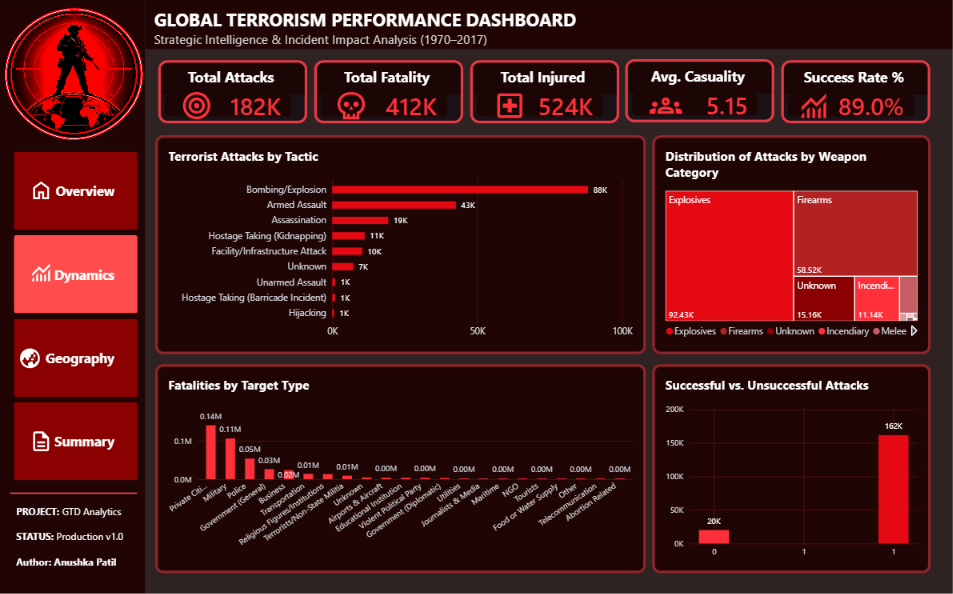

The page's visual inventory and layout, read from the dashboard file:
{"tool":"powerbi","page":{"name":"Dynamics","canvas":[1440,900],"ordinal":1},"visuals":[{"type":"clusteredBarChart","title":"Terrorist Attacks by Tactic","fields":{"Category":["globalterrorismdb_0718dist.attacktype1_txt"],"Y":["CountNonNull(globalterrorismdb_0718dist.eventid)"]},"box":[235,205,740,330],"z":0},{"type":"treemap","title":"Distribution of Attacks by Weapon Category","fields":{"Group":["globalterrorismdb_0718dist.weaptype1_txt"],"Values":["CountNonNull(globalterrorismdb_0718dist.eventid)"]},"box":[985,205,420,330],"z":1000},{"type":"columnChart","title":"Fatalities by Target Type","fields":{"Category":["globalterrorismdb_0718dist.targtype1_txt"],"Y":["_Measures.Total Fatalities"]},"box":[235,550,740,315],"z":2000},{"type":"clusteredColumnChart","title":"Successful vs. Unsuccessful Attacks","fields":{"Category":["globalterrorismdb_0718dist.success"],"Y":["_Measures.Total Attacks"]},"box":[985,550,420,315],"z":3000},{"type":"shape","box":[0,0,220,900],"z":4000},{"type":"textbox","box":[26.1,761.7,178.3,103.3],"z":6000},{"type":"shape","box":[219.4,0,1220,75.4],"z":7000},{"type":"textbox","box":[234.5,11.7,1175,63.3],"z":8000},{"type":"cardVisual","title":"Total Attacks","fields":{"Data":["_Measures.Total Attacks"]},"box":[239.8,92.5,225,95],"z":9000,"group":"g1"},{"type":"pageNavigator","box":[19.6,227.7,191.5,500.7],"z":9000},{"type":"cardVisual","title":"Total Fatality","fields":{"Data":["_Measures.Total Fatalities"]},"box":[474.8,92.5,225,95],"z":10000,"group":"g1"},{"type":"image","box":[45.2,265.4,36,45],"z":10000},{"type":"cardVisual","title":"Total Injured","fields":{"Data":["_Measures.Total Injured"]},"box":[709.8,92.5,225,95],"z":11000,"group":"g1"},{"type":"image","box":[45.2,389.1,36,45],"z":11000},{"type":"cardVisual","title":"Success Rate %","fields":{"Data":["_Measures.Success Rate %"]},"box":[1179.8,92.5,225,95],"z":12000,"group":"g1"},{"type":"image","box":[28,519,36,45],"z":12000},{"type":"cardVisual","title":"Avg. Casuality","fields":{"Data":["_Measures.Avg Casualties per Attack"]},"box":[944.8,90.5,225,95],"z":13000,"group":"g1"},{"type":"image","box":[45.7,643.6,36,45],"z":13000},{"type":"group","id":"g1","title":"Group 1","box":[239.8,90.5,1164.2,98],"z":14000},{"type":"image","box":[6,6,214,221.7],"z":14001},{"type":"shape","box":[16.6,728.4,191.5,33.2],"z":14002},{"type":"image","box":[259.7,135.2,76.9,49.8],"z":19000,"group":"g1"},{"type":"image","box":[491.9,135.2,78.4,49.8],"z":20000,"group":"g1"},{"type":"image","box":[736.2,135.2,67.9,49.8],"z":21000,"group":"g1"},{"type":"image","box":[965.4,135.2,79.9,49.8],"z":22000,"group":"g1"},{"type":"image","box":[1199.2,135.2,58.8,49.8],"z":23000,"group":"g1"}]}

Visuals, with their boxes in screenshot pixels (x1, y1, x2, y2), scaled from the page's 1440x900 canvas onto the 953x594 screenshot:
"Terrorist Attacks by Tactic" clusteredBarChart: 156,135,645,353
"Distribution of Attacks by Weapon Category" treemap: 652,135,930,353
"Fatalities by Target Type" columnChart: 156,363,645,571
"Successful vs. Unsuccessful Attacks" clusteredColumnChart: 652,363,930,571
shape: 0,0,146,593
textbox: 17,503,135,571
shape: 145,0,952,50
textbox: 155,8,933,50
"Total Attacks" cardVisual: 159,61,308,124
pageNavigator: 13,150,140,481
"Total Fatality" cardVisual: 314,61,463,124
image: 30,175,54,205
"Total Injured" cardVisual: 470,61,619,124
image: 30,257,54,287
"Success Rate %" cardVisual: 781,61,930,124
image: 19,343,42,372
"Avg. Casuality" cardVisual: 625,60,774,122
image: 30,425,54,454
"Group 1" group: 159,60,929,124
image: 4,4,146,150
shape: 11,481,138,503
image: 172,89,223,122
image: 326,89,377,122
image: 487,89,532,122
image: 639,89,692,122
image: 794,89,833,122
